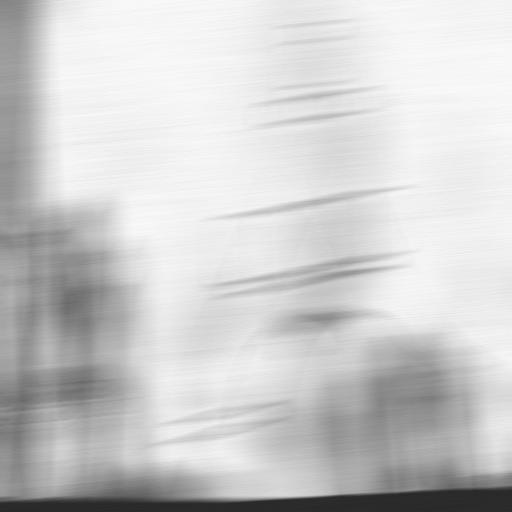eiffel-tower: (125, 0, 497, 457)
